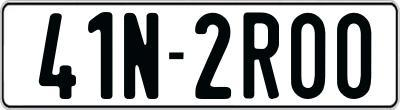0: (337, 10, 375, 100), (291, 13, 325, 105)
1: (88, 9, 117, 96)
2: (194, 10, 234, 101)
4: (39, 13, 80, 104)
N: (124, 13, 160, 104)
R: (243, 9, 283, 101)
